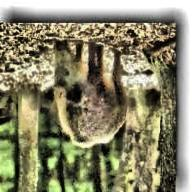boar: (49, 34, 135, 161)
